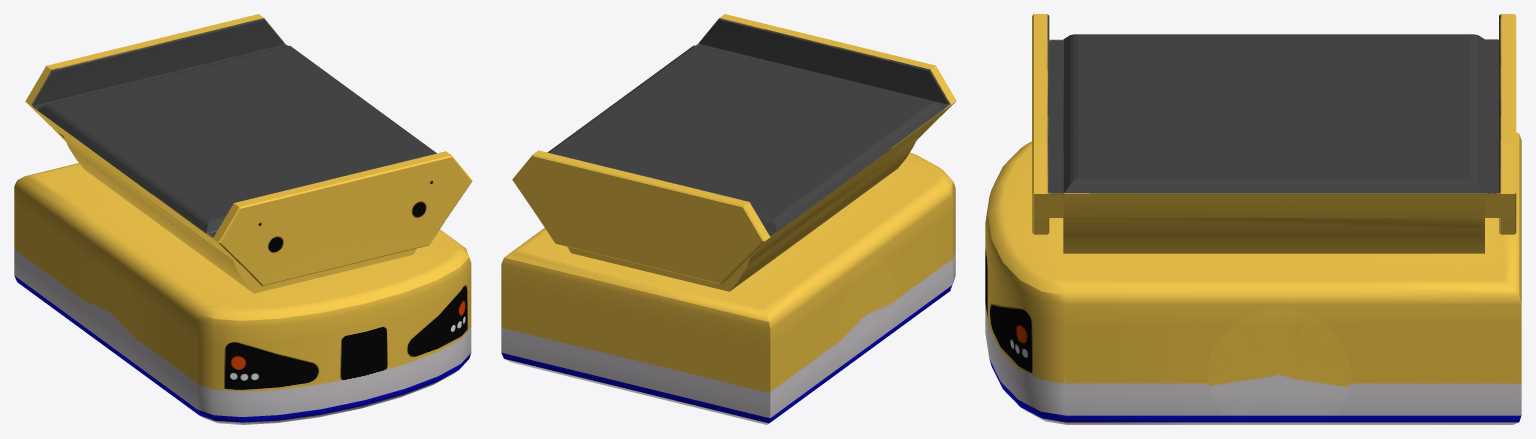
File: Wearhouse_robot.fbx
3 views of the same model, side by side, from view 1: azimuth 30°, elevation 25°; view 2: azimuth 150°, elevation 25°; view 3: azimuth 270°, elevation 25° (orthographic). The views are drawn at different scales.
Parts seen in each view (by area): view 1: robot_2, robot_3; view 2: robot_2, robot_3; view 3: robot_2, robot_3.
Part boxes in pixels (x1,y1,x2,y2): robot_2: (25,14,472,293); robot_3: (14,163,471,424); robot_2: (512,14,956,291); robot_3: (501,152,955,424); robot_2: (1032,14,1516,253); robot_3: (985,132,1521,424).
Bounding box in the file's own units: 2.32 × 1.78 × 3.2.
2 materials, 1 textured.
